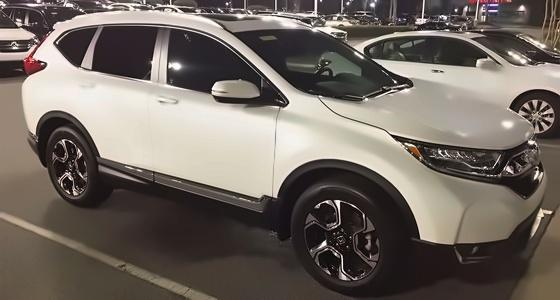Car hood: (316, 76, 537, 153)
Driver-s door - -F-R-: (157, 20, 274, 202)
Fender - -F-R-: (274, 83, 418, 203)
Fender - -R-R-: (29, 62, 66, 133)
Front bumper: (405, 178, 554, 272)
Headlight - -R-: (390, 135, 509, 183)
Passenger-s door - -R-R-: (65, 19, 157, 174)
Rear bumper: (18, 91, 41, 168)
Side bumper - -R-: (82, 151, 290, 239)
Side mirror - -R-: (17, 23, 59, 79), (202, 76, 263, 112)
